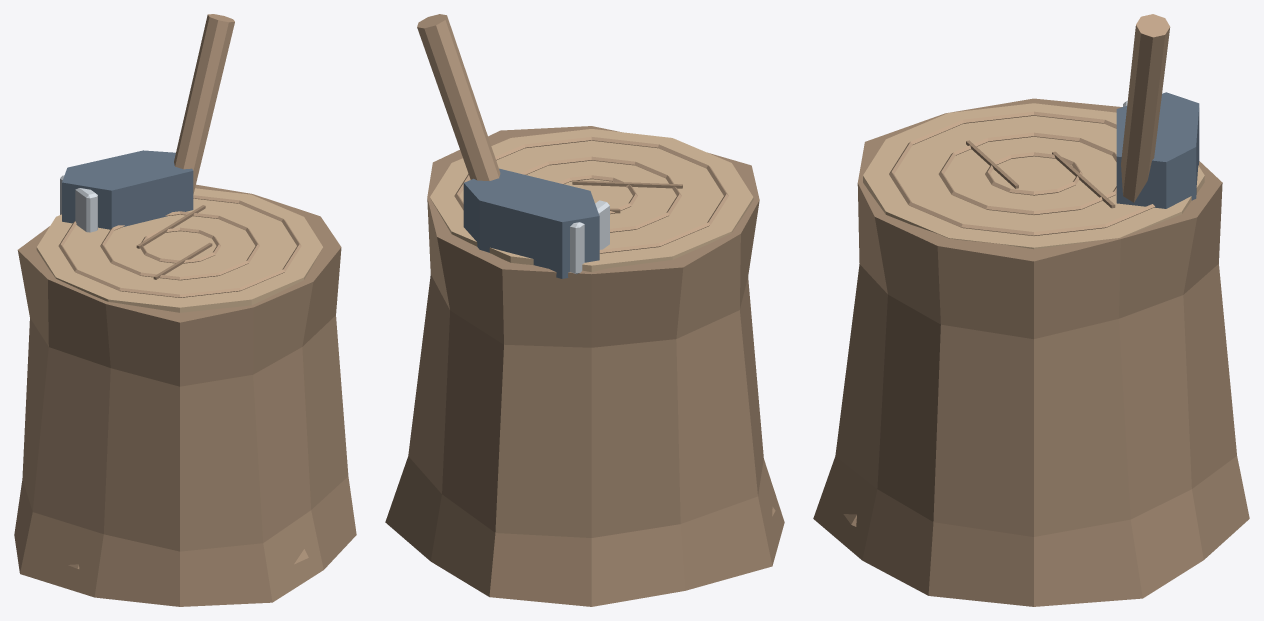
File: chopping_stump.glb
3 views of the same model, side by side, from view 1: azimuth 30°, elevation 25°; view 2: azimuth 150°, elevation 25°; view 3: azimuth 270°, elevation 25° (orthographic). The views are drawn at different scales.
Parts seen in each view (by area): view 1: stump_irregular_bark, stump_cut_surface, stump_axe_head, stump_axe_handle, stump_growth_ring.002, stump_growth_ring.001, stump_axe_cutting_edge, stump_growth_ring; view 2: stump_irregular_bark, stump_cut_surface, stump_axe_head, stump_axe_handle, stump_growth_ring.002, stump_axe_cutting_edge, stump_growth_ring.001, stump_cut_score; view 3: stump_irregular_bark, stump_cut_surface, stump_axe_handle, stump_axe_head, stump_growth_ring.002, stump_growth_ring.001, stump_growth_ring.
Part boxes in pixels (x1,y1,x2,y2): stump_irregular_bark: (14, 184, 356, 606); stump_cut_surface: (36, 188, 323, 312); stump_axe_head: (62, 150, 193, 229); stump_axe_handle: (174, 14, 234, 194); stump_growth_ring.002: (58, 195, 301, 297); stump_growth_ring.001: (100, 211, 259, 280); stump_axe_cutting_edge: (60, 175, 97, 232); stump_growth_ring: (140, 227, 220, 263); stump_irregular_bark: (385, 126, 784, 606); stump_cut_surface: (430, 129, 753, 272); stump_axe_head: (463, 168, 599, 278); stump_axe_handle: (417, 14, 500, 181); stump_growth_ring.002: (454, 137, 728, 253); stump_axe_cutting_edge: (570, 200, 609, 274); stump_growth_ring.001: (520, 156, 681, 232); stump_cut_score: (572, 180, 682, 188); stump_irregular_bark: (813, 98, 1249, 606); stump_cut_surface: (863, 103, 1204, 249); stump_axe_handle: (1121, 14, 1170, 202); stump_axe_head: (1116, 92, 1199, 208); stump_growth_ring.002: (889, 111, 1155, 235); stump_growth_ring.001: (938, 132, 1116, 214); stump_growth_ring: (985, 152, 1082, 195).
Size of the model in its own units: 0.6478 by 0.918 by 0.6591.
